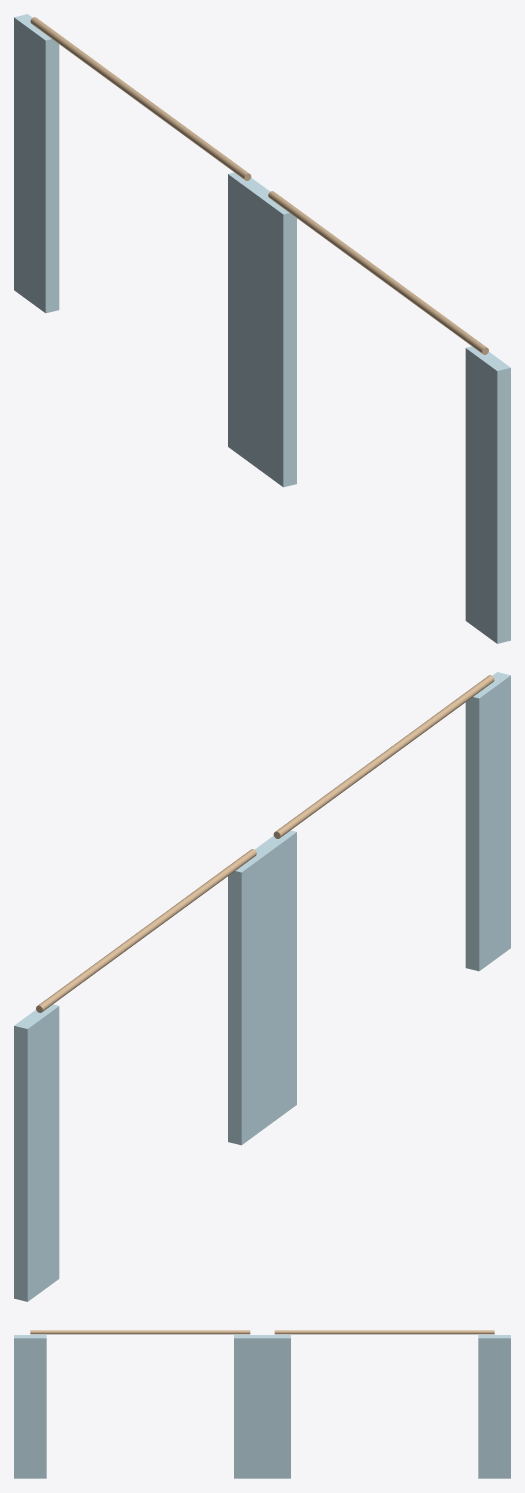
File: Wall_Curtain.glb
The picture shows the model from 3 angles, top to bottom: view 1: azimuth 30°, elevation 25°; view 2: azimuth 150°, elevation 25°; view 3: azimuth 270°, elevation 25°; orthographic projection. The views are drawn at different scales.
Visible parts, largest first — view 1: Curtain_2_L, Curtain_1_R, Curtain_2_R, Curtain_1_L, Curtain_Rod_1, Curtain_Rod_2; view 2: Curtain_1_R, Curtain_2_L, Curtain_1_L, Curtain_2_R, Curtain_Rod_2, Curtain_Rod_1; view 3: Curtain_1_R, Curtain_2_L, Curtain_1_L, Curtain_2_R, Curtain_Rod_1, Curtain_Rod_2.
Boxes of the visible parts, x1,y1,x2,y2 form: Curtain_2_L: (465,346,510,643); Curtain_1_R: (14,14,59,313); Curtain_2_R: (251,188,296,487); Curtain_1_L: (228,172,264,463); Curtain_Rod_1: (30,17,251,180); Curtain_Rod_2: (268,191,488,354); Curtain_1_R: (14,1004,59,1301); Curtain_2_L: (465,672,510,971); Curtain_1_L: (228,847,273,1145); Curtain_2_R: (254,830,296,1121); Curtain_Rod_2: (273,675,494,838); Curtain_Rod_1: (36,849,256,1012); Curtain_1_R: (478,1335,510,1478); Curtain_2_L: (14,1335,46,1478); Curtain_1_L: (258,1335,290,1478); Curtain_2_R: (234,1335,266,1478); Curtain_Rod_1: (274,1330,494,1334); Curtain_Rod_2: (30,1330,250,1334).
Bounding box in the file's own units: 0.0989 × 1.95 × 6.03.
